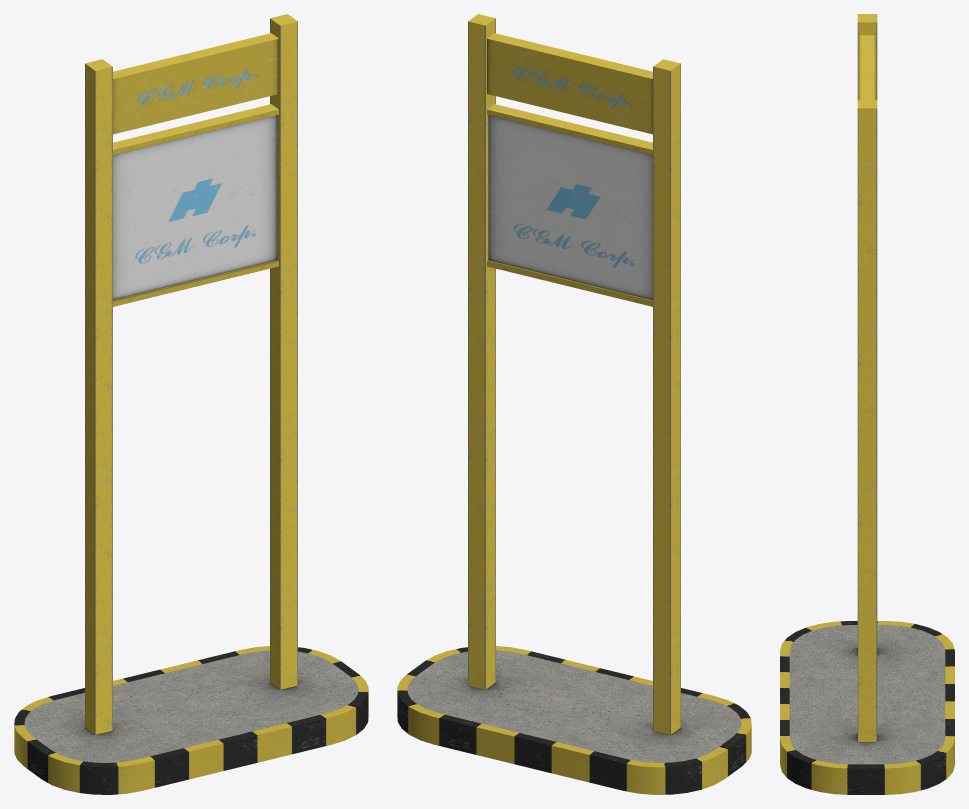
Rendered from Street_Billboard.FBX.
The picture shows the model from 3 angles, left to right: view 1: azimuth 30°, elevation 25°; view 2: azimuth 150°, elevation 25°; view 3: azimuth 270°, elevation 25°; orthographic projection. The views are drawn at different scales.
Parts seen in each view (by area): view 1: SB01; view 2: SB01; view 3: SB01.
Part boxes in pixels (x1,y1,x2,y2): SB01: [14, 14, 368, 794]; SB01: [397, 14, 751, 794]; SB01: [780, 14, 954, 794].
Size of the model in its own units: 72 by 150 by 36.
